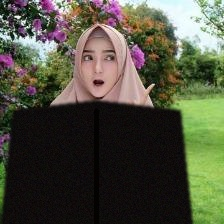Cadar_Niqab: (1, 19, 192, 224)
